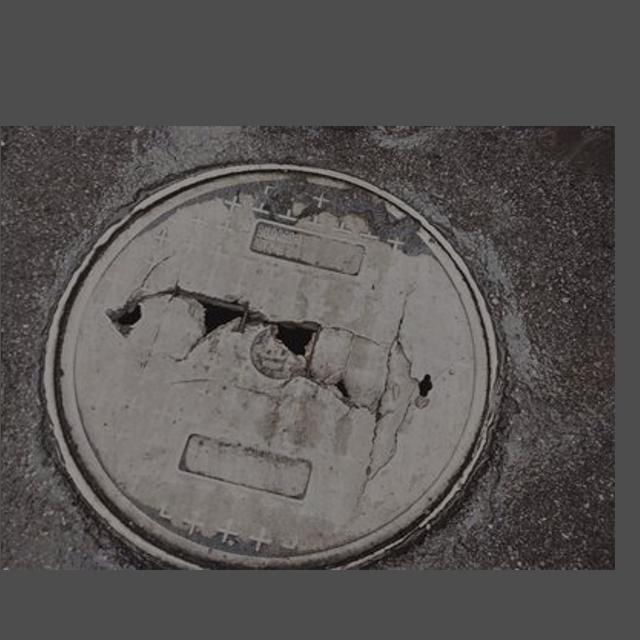broke: (16, 154, 536, 568)
